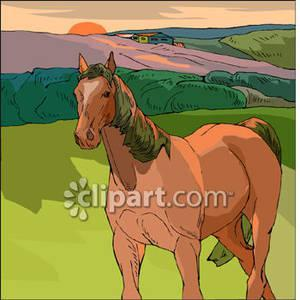horse: (61, 47, 283, 294)
